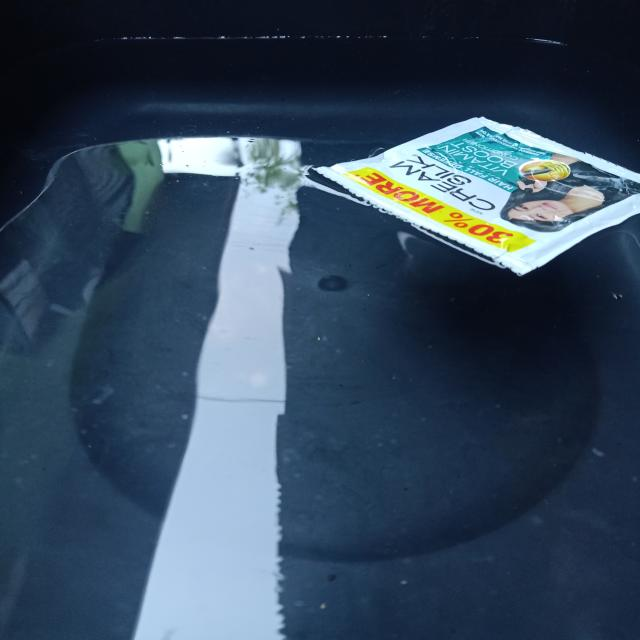Plastic Wrapper: (299, 106, 640, 275)
